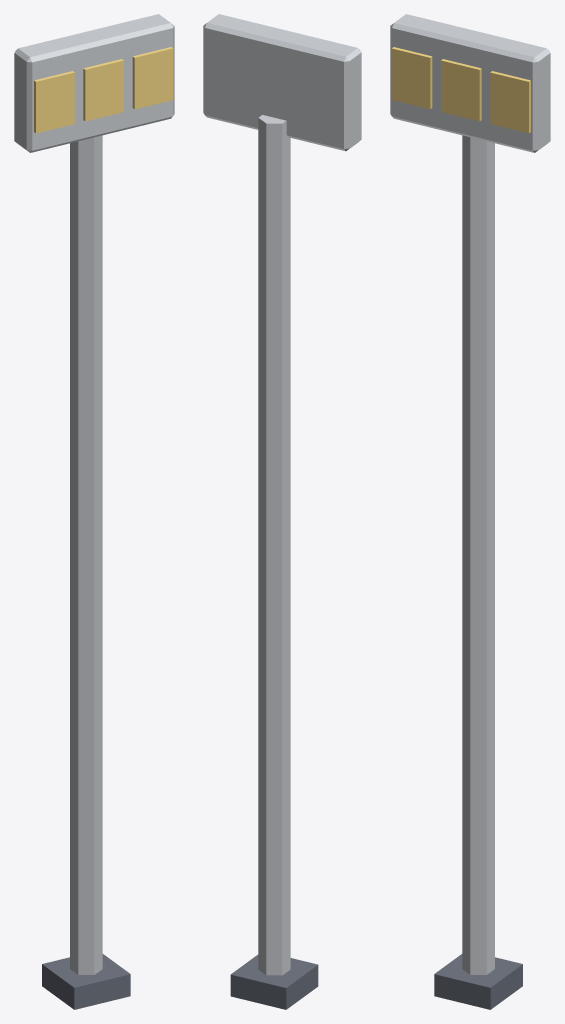
File: d_floodlight.fbx
3 renders of one model, left to right at view 1: azimuth 30°, elevation 25°; view 2: azimuth 150°, elevation 25°; view 3: azimuth 330°, elevation 25°, orthographic.
Parts seen in each view (by area): view 1: d_floodlight; view 2: d_floodlight; view 3: d_floodlight.
Part boxes in pixels (bbox=[...]): d_floodlight: bbox=[14, 14, 174, 1009]; d_floodlight: bbox=[203, 14, 361, 1009]; d_floodlight: bbox=[390, 14, 550, 1009].
Bounding box in the file's own units: 4.2 × 26.1 × 1.7.
